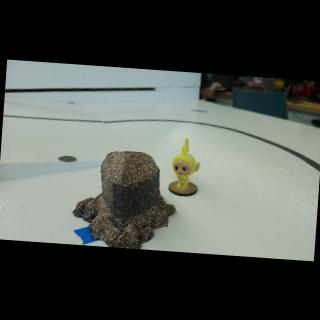teletubby: (172, 139, 199, 188)
